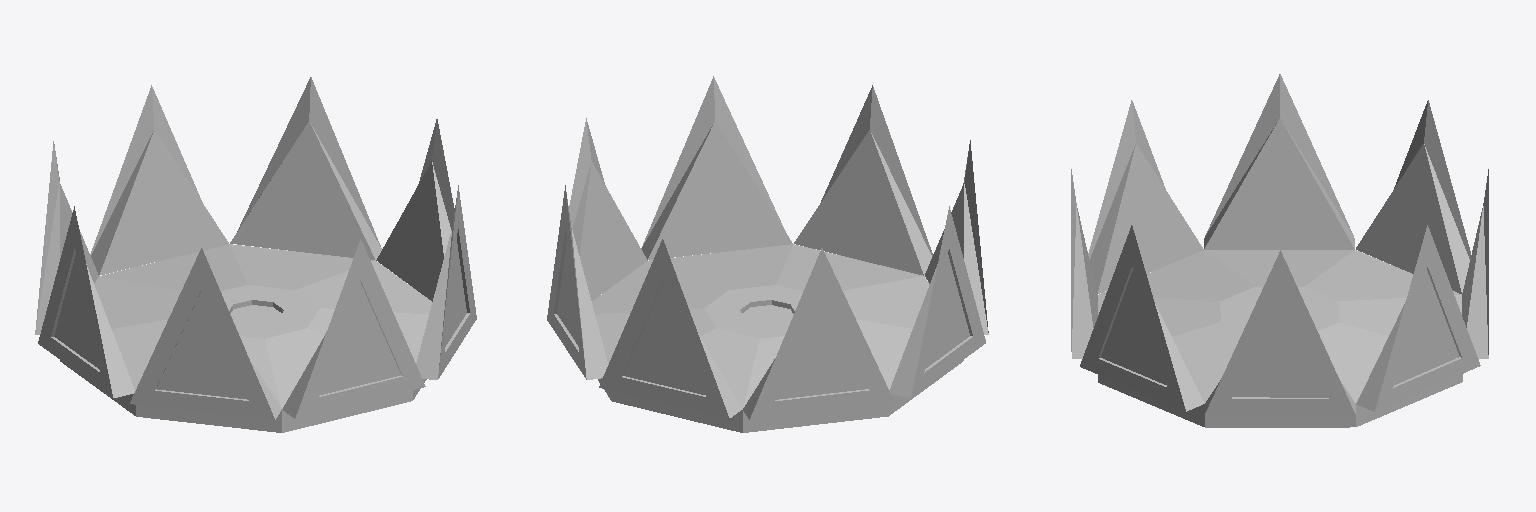
The model's file is spawner2.obj.
3 renders of one model, left to right at view 1: azimuth 30°, elevation 25°; view 2: azimuth 150°, elevation 25°; view 3: azimuth 270°, elevation 25°, orthographic.
Visible parts, largest first — view 1: Cone; view 2: Cone; view 3: Cone.
Boxes of the visible parts, box(x1,y1,x2,y2) form: Cone: box(35, 77, 476, 432); Cone: box(547, 76, 988, 432); Cone: box(1071, 74, 1488, 427).
Bounding box in the file's own units: 2.12 × 1.06 × 2.12.